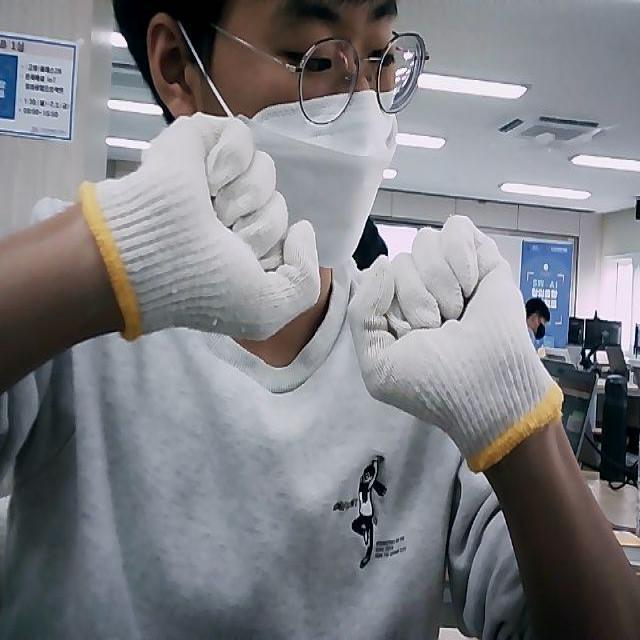gloves: (82, 110, 322, 340), (346, 214, 564, 463)
